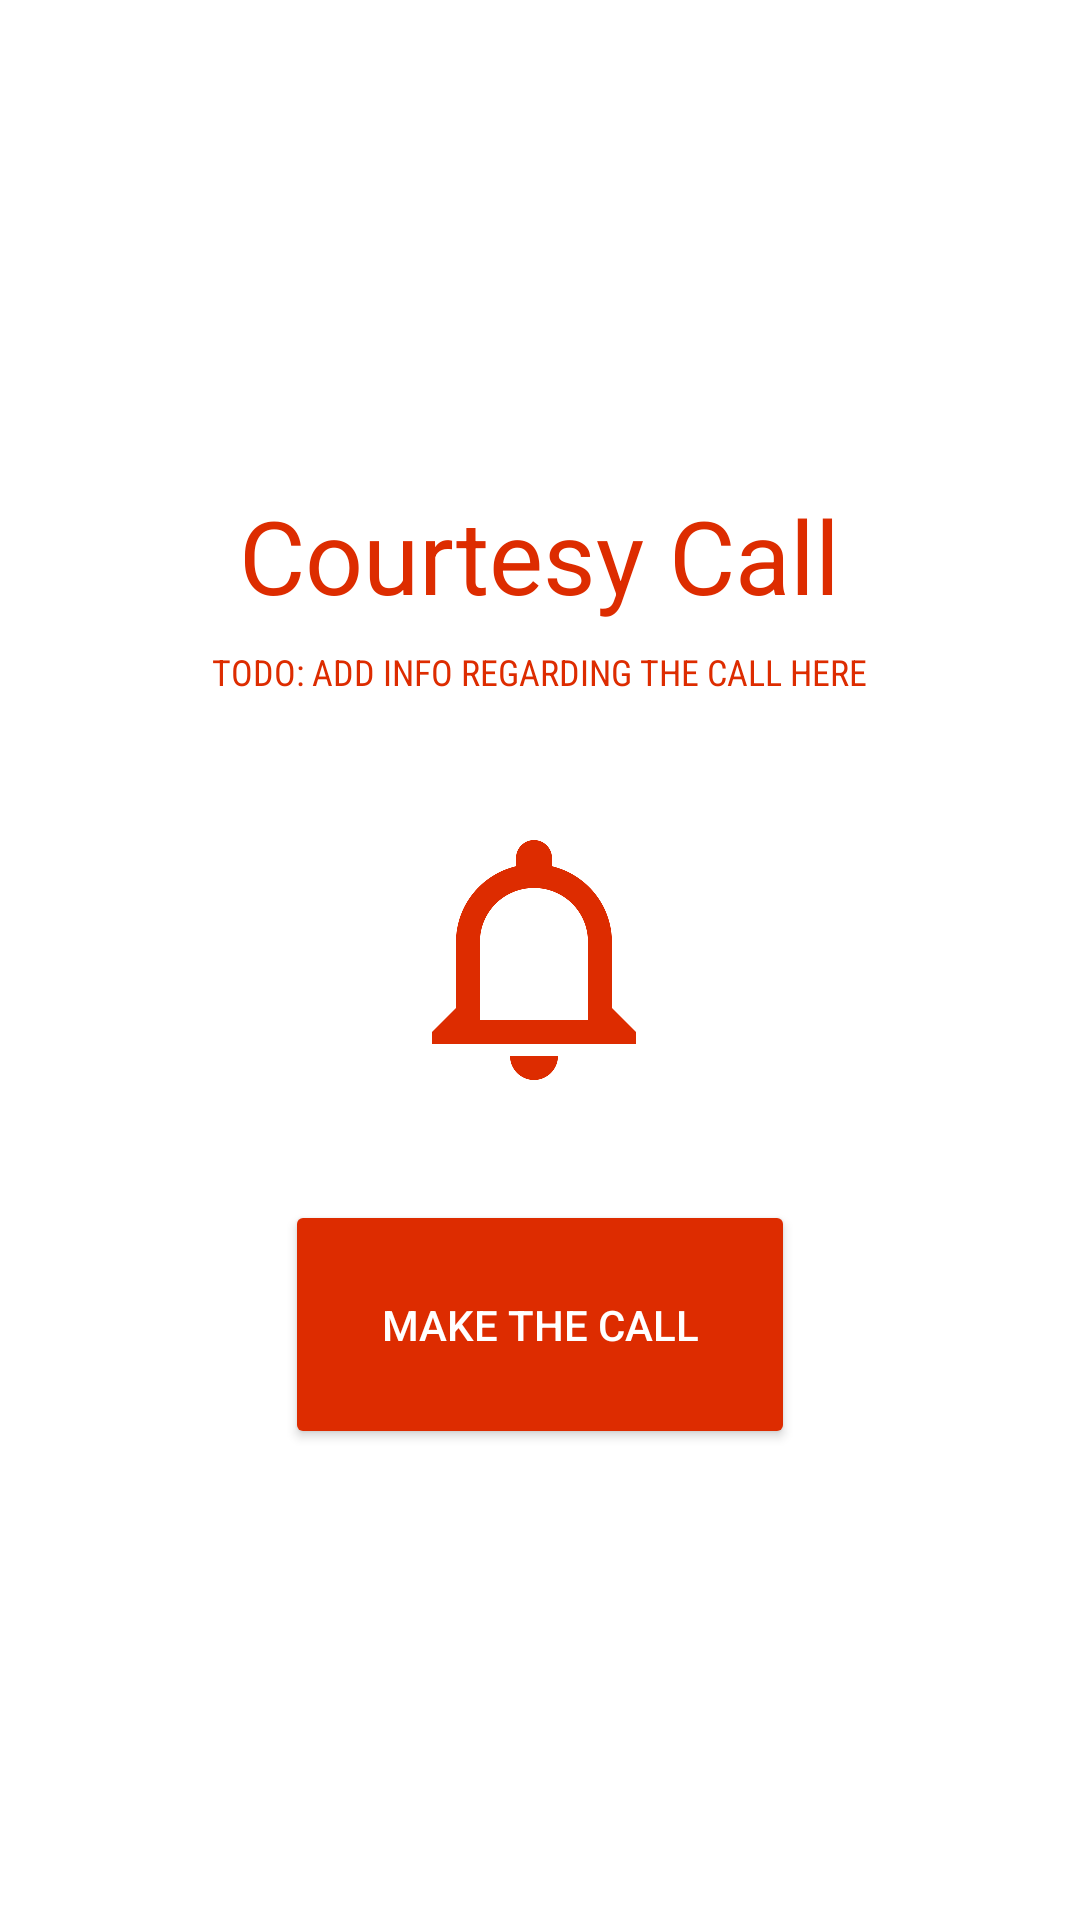

Icon click points for this 1080 x 1920 phone screenshot, format (x=x, y=y):
bell: (x=534, y=960)
